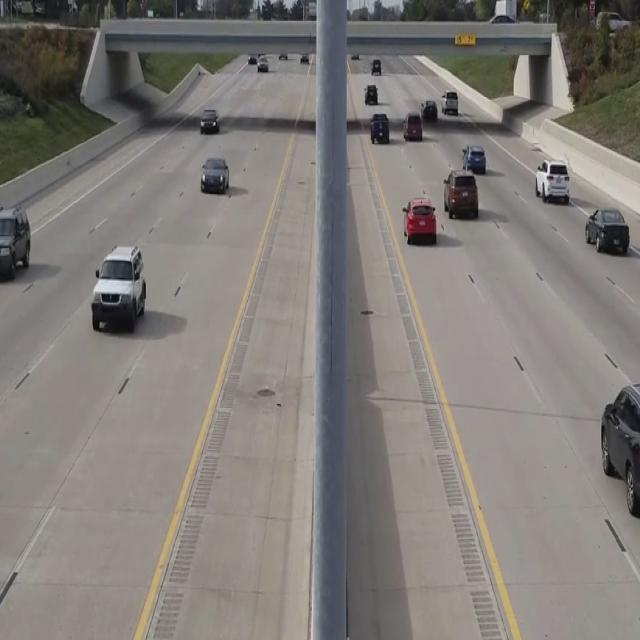car: (600, 380, 640, 518), (90, 243, 146, 333), (0, 205, 31, 282), (585, 206, 629, 254), (402, 195, 437, 244), (443, 169, 478, 218), (535, 159, 569, 203), (200, 157, 228, 194), (461, 143, 486, 173), (370, 111, 389, 143), (403, 112, 422, 140), (200, 108, 218, 132)
